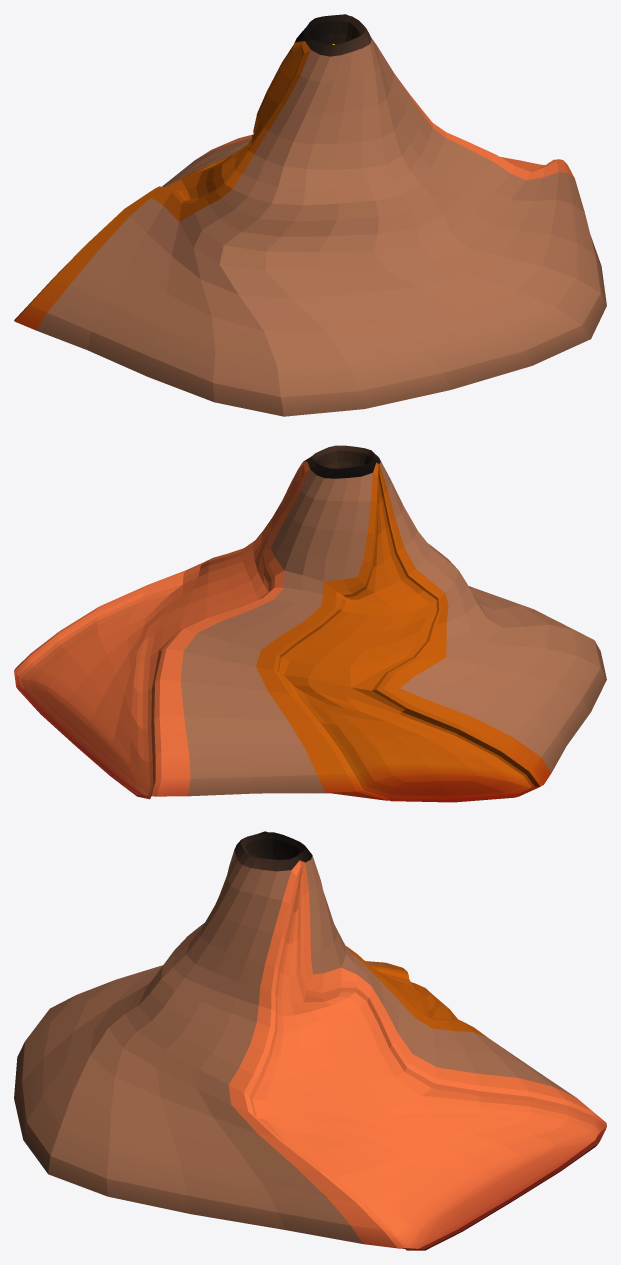
The model's file is Vulcano.fbx.
3 views of the same model, one above another, from view 1: azimuth 30°, elevation 25°; view 2: azimuth 150°, elevation 25°; view 3: azimuth 270°, elevation 25° (orthographic). The views are drawn at different scales.
Parts seen in each view (by area): view 1: Cylinder.002; view 2: Cylinder.002; view 3: Cylinder.002.
Part boxes in pixels (box(x1,y1,x2,y2)): Cylinder.002: box(14, 14, 606, 416); Cylinder.002: box(14, 445, 606, 802); Cylinder.002: box(14, 831, 606, 1250).
Bounding box in the file's own units: 8.95 × 4.14 × 8.16.
